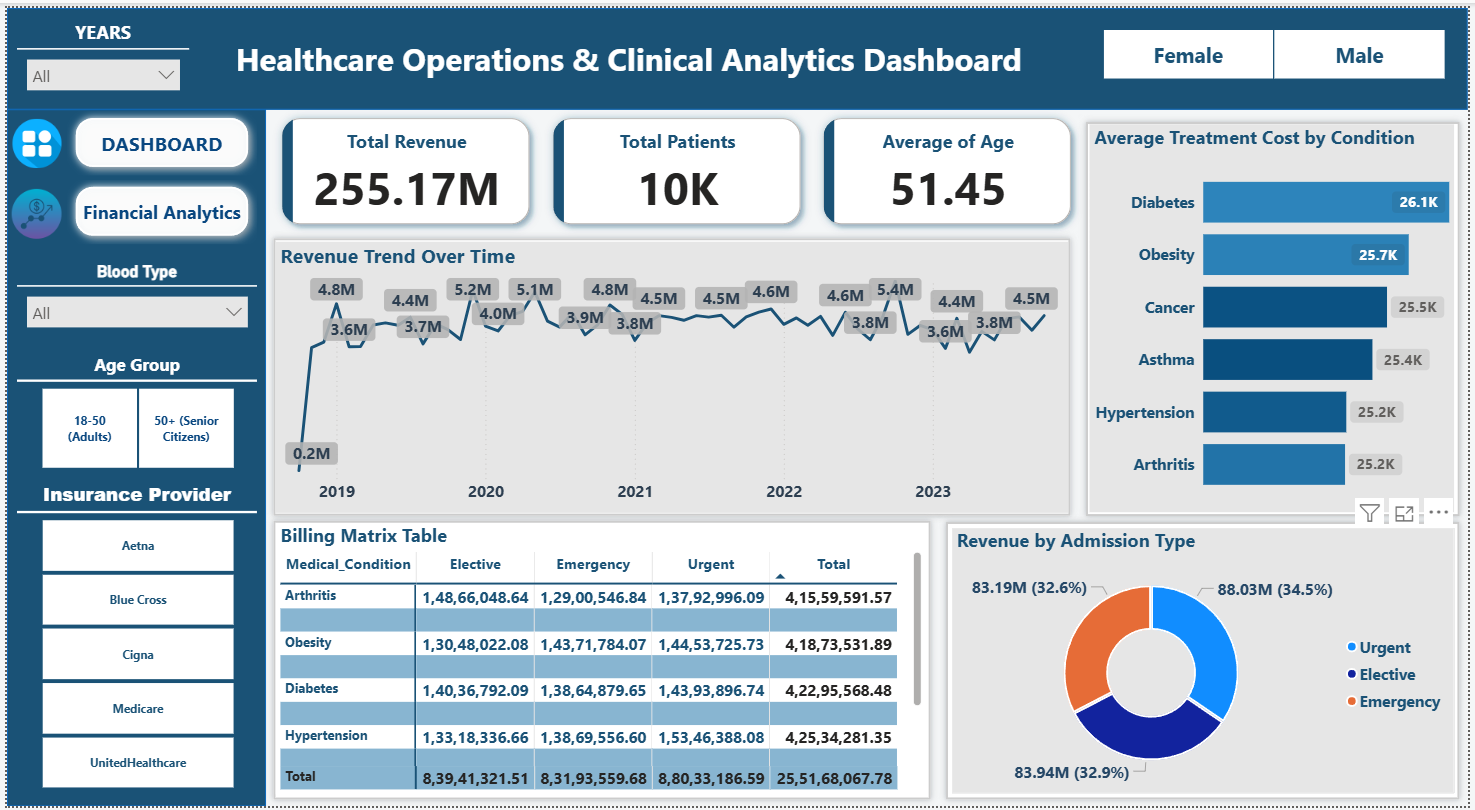

What the dashboard file says about the page in this screenshot:
{"tool":"powerbi","page":{"name":"Financial Trends","canvas":[1500,820],"ordinal":1},"visuals":[{"type":"shape","box":[0,0,1499.9,104.5],"z":0},{"type":"shape","box":[0,104.5,266,715.8],"z":1000},{"type":"cardVisual","fields":{"Data":["Sum(healthcare_dataset.Billing_Amount)","CountNonNull(healthcare_dataset.Name)","Avg(healthcare_dataset.Age)"]},"box":[266,96.1,845.4,143.4],"z":2000},{"type":"shape","box":[266,228.4,834.2,300.8],"z":3000},{"type":"shape","box":[266,518.1,690.8,302.2],"z":4000},{"type":"lineChart","title":"Revenue Trend Over Time","fields":{"Category":["healthcare_dataset.Date_of_Admission.Variation.Date Hierarchy.Year","healthcare_dataset.Date_of_Admission.Variation.Date Hierarchy.Month"],"Y":["Sum(healthcare_dataset.Billing_Amount)"]},"box":[275.7,239.5,813.3,278.5],"z":5000},{"type":"shape","box":[1100.2,108.6,399.7,420.6],"z":6000},{"type":"slicer","fields":{"Values":["healthcare_dataset.Gender"]},"box":[1100.2,15.3,399.7,64.1],"z":7000},{"type":"slicer","title":"Insurance Provider","fields":{"Values":["healthcare_dataset.Insurance_Provider"]},"box":[9.7,484.6,246.5,323.1],"z":8000},{"type":"textbox","box":[149,25.1,979,54.3],"z":9000},{"type":"slicer","title":"Blood Type","fields":{"Values":["healthcare_dataset.Blood_Type"]},"box":[9.7,260.4,246.5,73.8],"z":10000},{"type":"image","box":[0,108.6,61.3,59.9],"z":11000},{"type":"shape","box":[61.3,104.5,195,68.2],"z":12000},{"type":"shape","box":[61.3,174.1,195,68.2],"z":13000},{"type":"slicer","title":"Age Group","fields":{"Values":["healthcare_dataset.Age _Group"]},"box":[9.7,353.7,246.5,125.3],"z":14000},{"type":"image","box":[0,174.1,61.3,73.8],"z":15000},{"type":"pivotTable","title":"Billing Matrix Table","fields":{"Rows":["healthcare_dataset.Medical_Condition"],"Values":["Sum(healthcare_dataset.Billing_Amount)"],"Columns":["healthcare_dataset.Admission_Type"]},"box":[275.7,529.2,668.5,278.5],"z":16000},{"type":"clusteredBarChart","title":"Average Treatment Cost by Condition","fields":{"Category":["healthcare_dataset.Medical_Condition"],"Y":["Avg(healthcare_dataset.Billing_Amount)"]},"box":[1111.4,119.8,374.6,398.3],"z":17000},{"type":"shape","box":[956.8,519.5,543.1,300.8],"z":18000},{"type":"donutChart","title":"Revenue by Admission Type","fields":{"Category":["healthcare_dataset.Admission_Type"],"Y":["Sum(healthcare_dataset.Billing_Amount)"]},"box":[970.7,533.4,515.3,273],"z":19000},{"type":"slicer","title":"YEARS","fields":{"Values":["healthcare_dataset.Date_of_Admission.Variation.Date Hierarchy.Year"]},"box":[9.7,11.1,176.9,73.8],"z":19001}]}

Visuals, with their boxes in screenshot pixels (x1, y1, x2, y2), scaled from the page's 1500x820 canvas onto the 1475x810 screenshot:
shape: <box>0,0,1474,103</box>
shape: <box>0,103,262,809</box>
cardVisual - Sum(healthcare_dataset.Billing_Amount) x CountNonNull(healthcare_dataset.Name): <box>262,95,1093,237</box>
shape: <box>262,226,1082,523</box>
shape: <box>262,512,941,809</box>
"Revenue Trend Over Time" lineChart: <box>271,237,1071,512</box>
shape: <box>1082,107,1474,523</box>
slicer - healthcare_dataset.Gender: <box>1082,15,1474,78</box>
"Insurance Provider" slicer: <box>10,479,252,798</box>
textbox: <box>147,25,1109,78</box>
"Blood Type" slicer: <box>10,257,252,330</box>
image: <box>0,107,60,166</box>
shape: <box>60,103,252,171</box>
shape: <box>60,172,252,239</box>
"Age Group" slicer: <box>10,349,252,473</box>
image: <box>0,172,60,245</box>
"Billing Matrix Table" pivotTable: <box>271,523,928,798</box>
"Average Treatment Cost by Condition" clusteredBarChart: <box>1093,118,1461,512</box>
shape: <box>941,513,1474,809</box>
"Revenue by Admission Type" donutChart: <box>955,527,1461,797</box>
"YEARS" slicer: <box>10,11,183,84</box>
